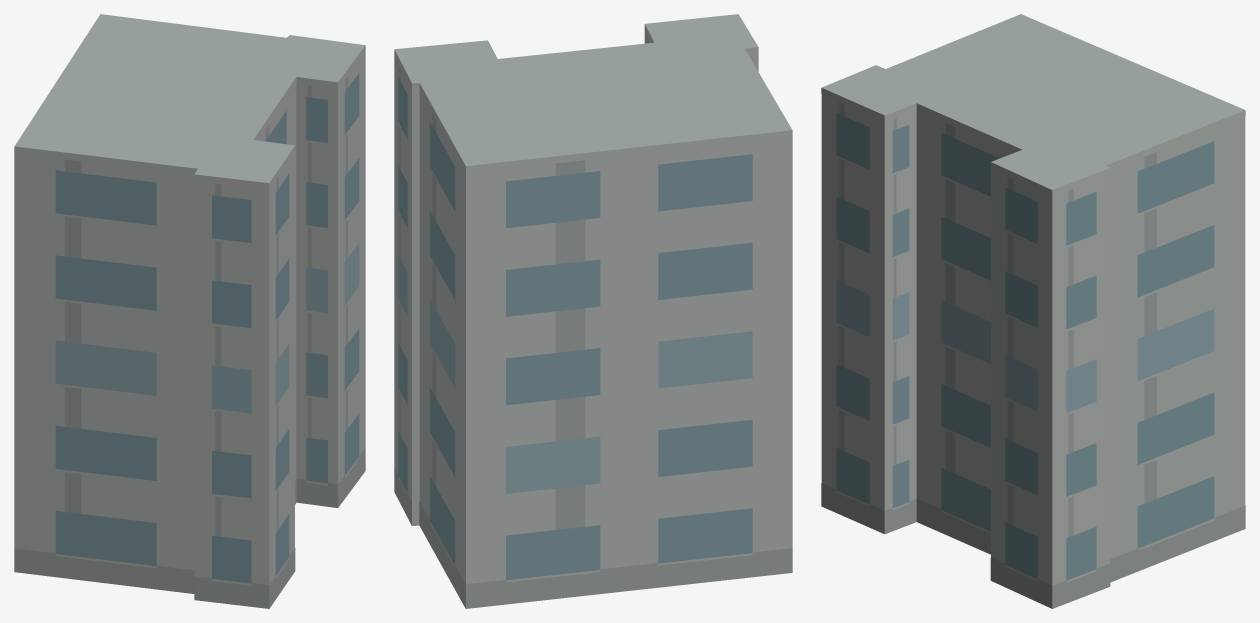
File: survey-upis-32888630.glb
3 views of the same model, side by side, from view 1: azimuth 30°, elevation 25°; view 2: azimuth 150°, elevation 25°; view 3: azimuth 270°, elevation 25° (orthographic). The views are drawn at different scales.
Parts seen in each view (by area): view 1: survey-upis-32888630.tmp; view 2: survey-upis-32888630.tmp; view 3: survey-upis-32888630.tmp.
Part boxes in pixels (x1,y1,x2,y2): survey-upis-32888630.tmp: [14, 14, 365, 608]; survey-upis-32888630.tmp: [394, 14, 792, 608]; survey-upis-32888630.tmp: [821, 14, 1245, 608].
Bounding box in the file's own units: 13.68 × 15.15 × 13.91.
